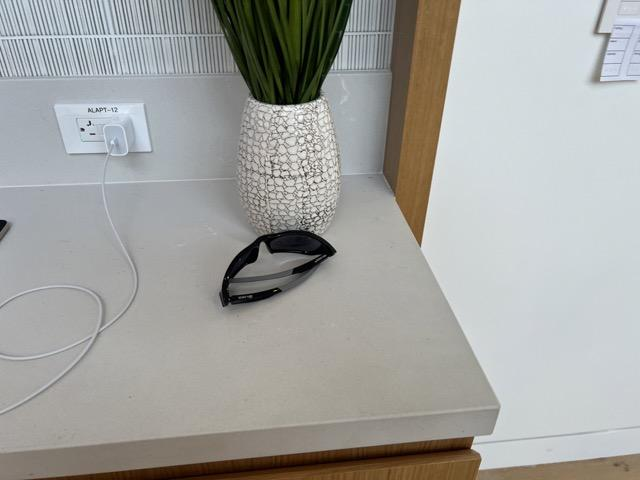Sunglasses: (220, 229, 337, 305)
